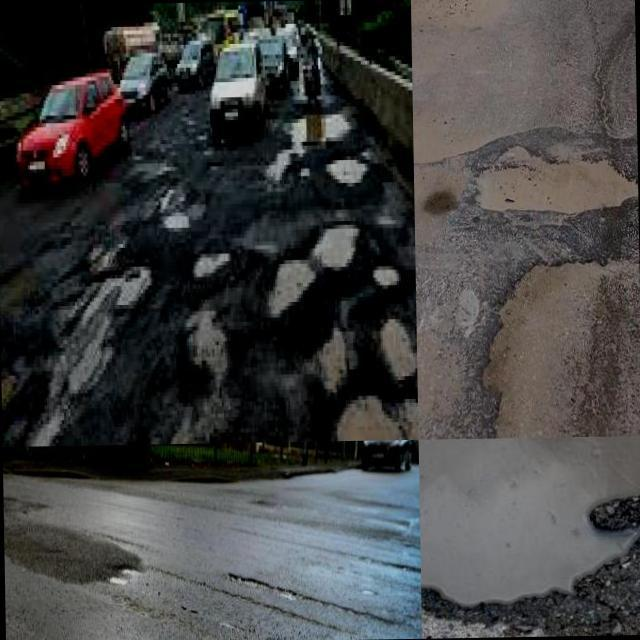Pothole: (418, 435, 640, 605), (480, 251, 617, 438), (475, 141, 638, 219), (269, 224, 359, 317), (335, 365, 418, 441), (370, 319, 417, 384), (321, 331, 349, 392)
